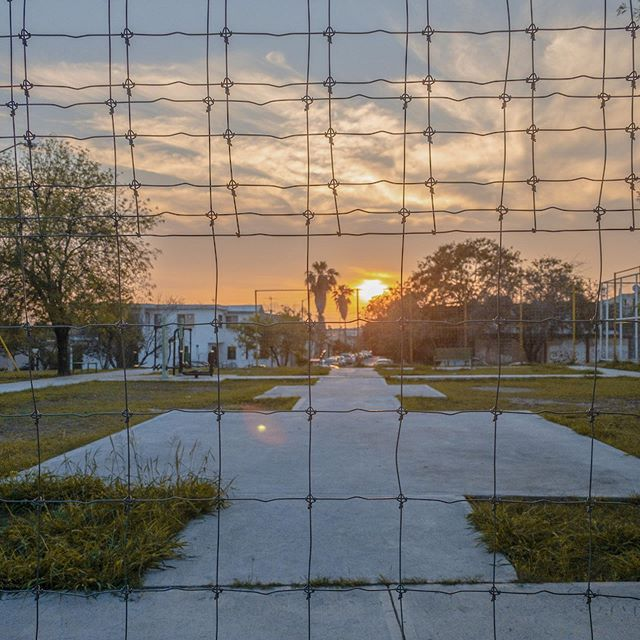building: (122, 297, 264, 376)
sky: (145, 1, 640, 288)
sun: (346, 269, 389, 310)
tree: (1, 120, 153, 355), (383, 230, 515, 361), (507, 257, 594, 362)
